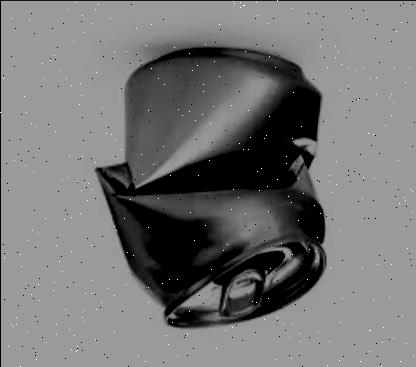Can: (89, 42, 329, 338)
